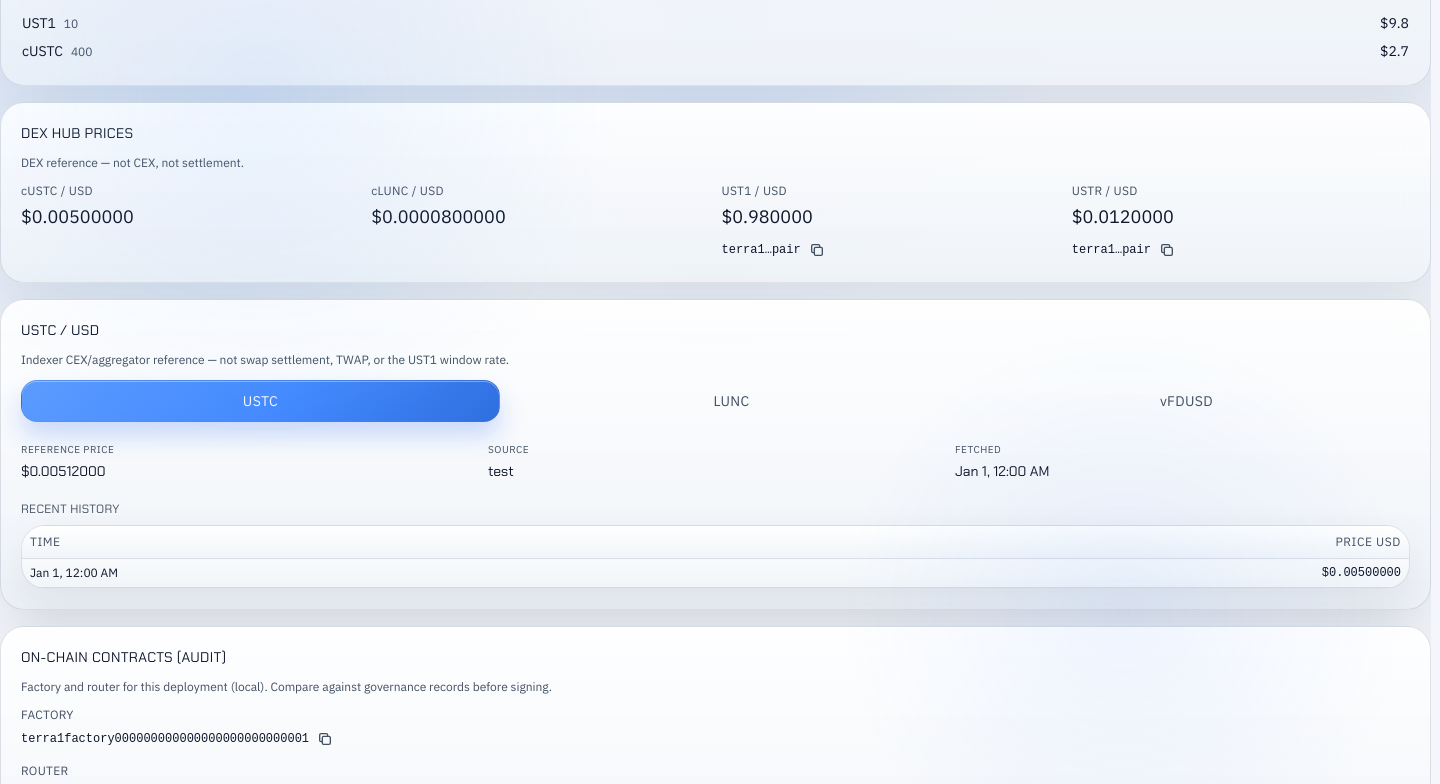
Scenario: ProtocolPage (GitLab #550 / #378 / #569) › clicking vFDUSD uses vfdusd queries and shows FDUSD reference + Venus section
(page scrolled)
Expected: the heading "USTC / USD" is shown, [21, 321, 99, 339]
Click the tab with test id "protocol-oracle-tab-vfdusd" at (1186, 401), box [963, 380, 1410, 422]
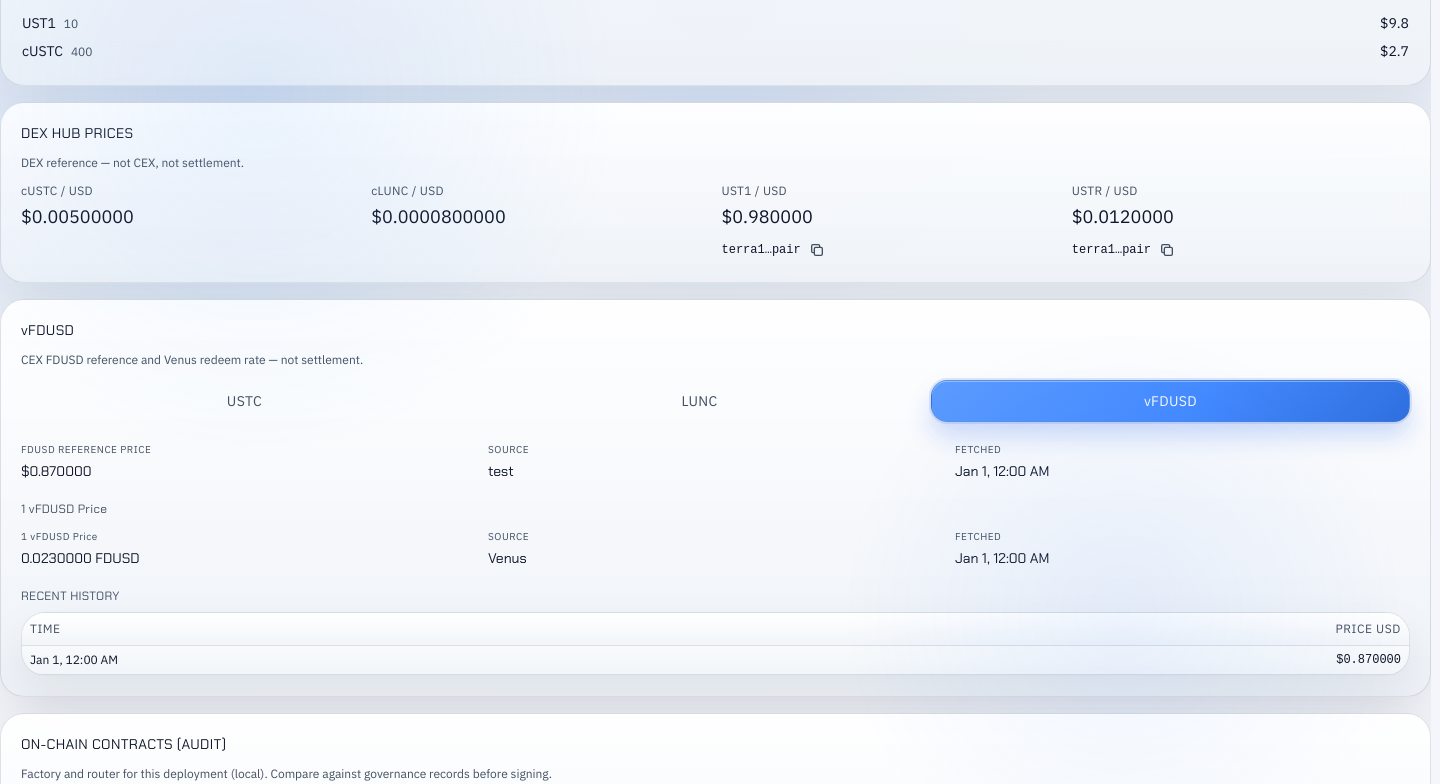
Now the heading "vFDUSD" is shown, box [21, 321, 74, 339]
Now the text "FDUSD reference price" is shown, box [21, 443, 151, 456]
Now the heading "1 vFDUSD Price" is shown, box [21, 501, 107, 517]
